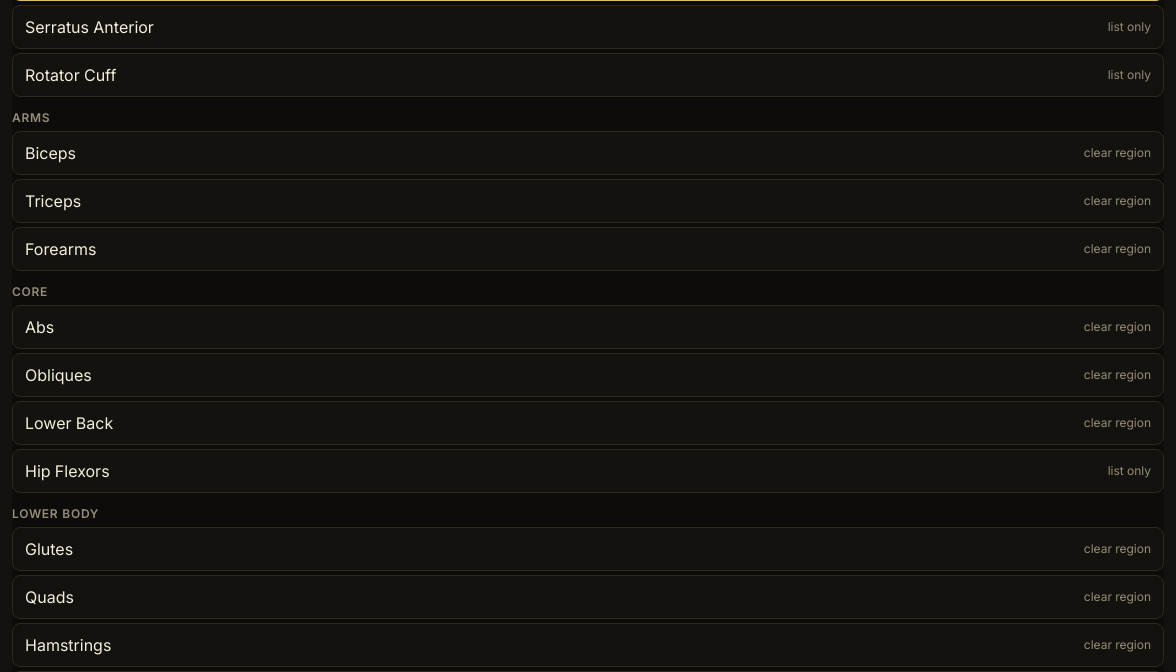
Test: MuscleChips (text twin) › same selection and same state classes as the figure; click toggles; heat shows the band
The image size is (1176, 672).
(page scrolled)
Click the button "Abs clear region" at (1117, 326), box [12,305,1164,349]
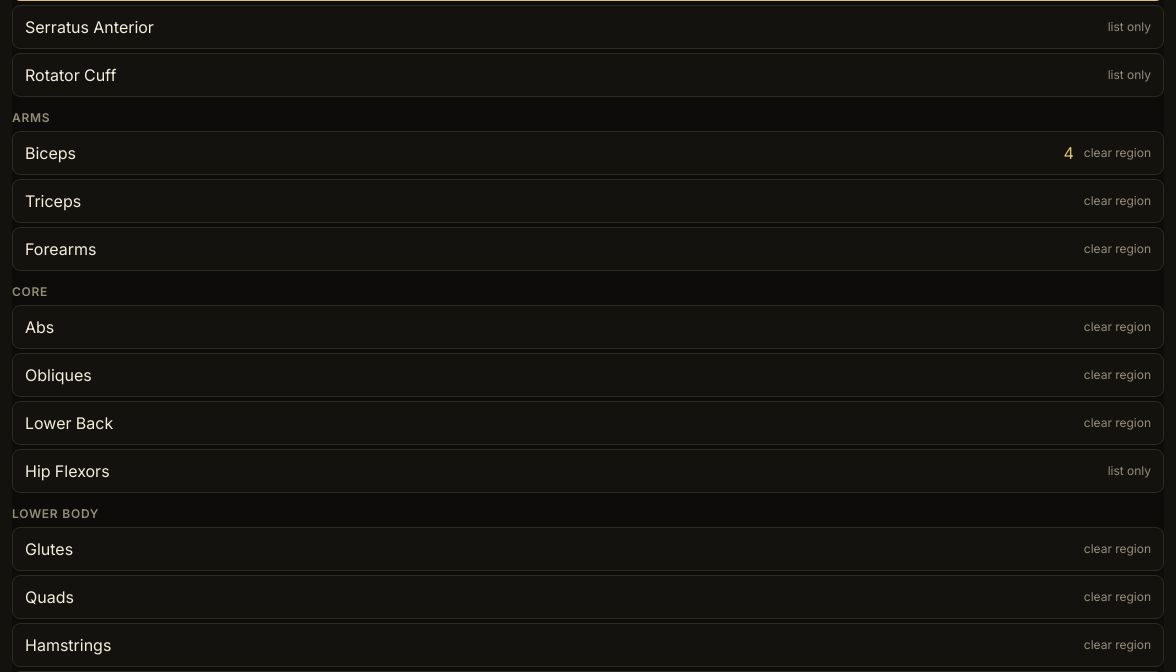
Now the text with class "sf-chips__meta" reads "4", box [1063,143,1074,163]
